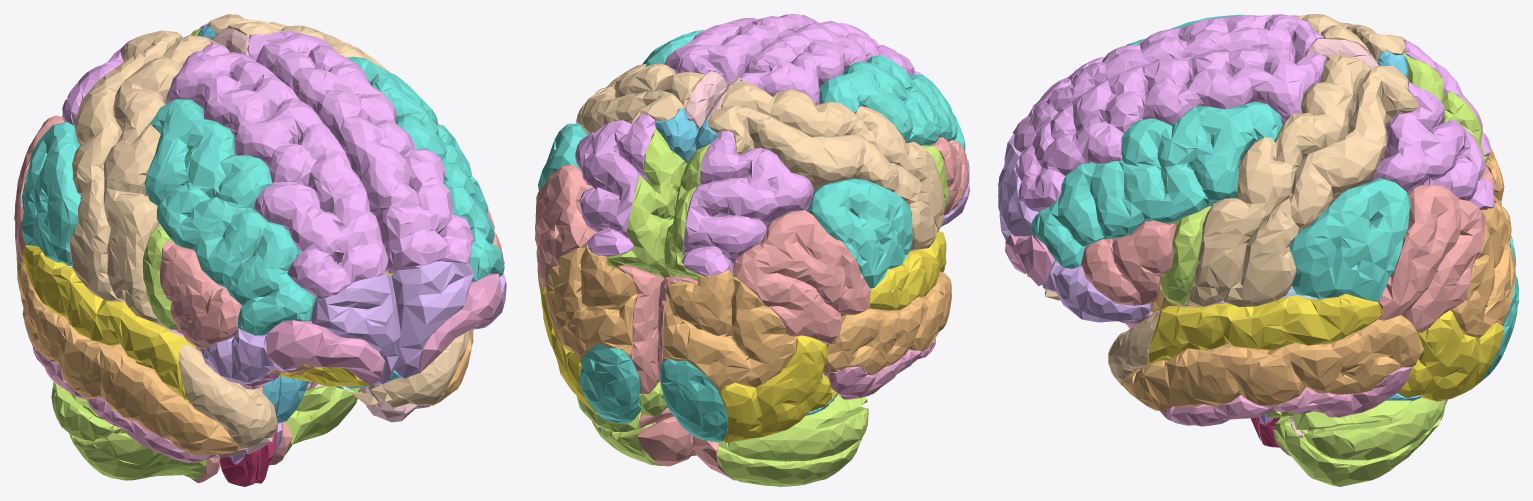
The model's file is organ-brain.glb.
The picture shows the model from 3 angles, left to right: view 1: azimuth 30°, elevation 25°; view 2: azimuth 150°, elevation 25°; view 3: azimuth 270°, elevation 25°; orthographic projection. The views are drawn at different scales.
Parts seen in each view (by area): view 1: superior-frontal-gyrus, middle-frontal-gyrus, precentral-gyrus, middle-temporal-gyrus, rostral-gyrus, postcentral-gyrus, lateral-hemisphere-of-cerebellum, superior-temporal-gyrus, temporal-pole, paracingulate-gyrus, supramarginal-gyrus, inferior-frontal-gyrus-triangular-part (+12 smaller); view 2: superior-occipital-gyrus, supraparietal-lobule, angular-gyrus, postcentral-gyrus, superior-frontal-gyrus, lateral-hemisphere-of-cerebellum, precentral-gyrus, supramarginal-gyrus, inferior-occipital-gyrus, middle-frontal-gyrus, precuneus, occipital-pole (+10 smaller); view 3: superior-frontal-gyrus, middle-frontal-gyrus, middle-temporal-gyrus, precentral-gyrus, postcentral-gyrus, supramarginal-gyrus, angular-gyrus, superior-temporal-gyrus, lateral-hemisphere-of-cerebellum, supraparietal-lobule, inferior-frontal-gyrus-triangular-part, inferior-occipital-gyrus (+10 smaller).
Part boxes in pixels (x1,y1,x2,y2): superior-frontal-gyrus: (166,30,473,305); middle-frontal-gyrus: (144,56,504,335); precentral-gyrus: (103,22,439,325); middle-temporal-gyrus: (17,261,473,455); rostral-gyrus: (311,261,474,384); postcentral-gyrus: (69,14,390,301); lateral-hemisphere-of-cerebellum: (51,381,360,480); superior-temporal-gyrus: (22,245,195,404); temporal-pole: (178,330,470,449); paracingulate-gyrus: (266,273,502,385); supramarginal-gyrus: (21,122,81,266); inferior-frontal-gyrus-triangular-part: (159,209,504,350); superior-occipital-gyrus: (545,245,796,394); supraparietal-lobule: (575,114,813,276); angular-gyrus: (535,164,870,343); postcentral-gyrus: (576,86,937,251); superior-frontal-gyrus: (664,14,923,104); lateral-hemisphere-of-cerebellum: (576,394,868,486); precentral-gyrus: (607,63,944,232); supramarginal-gyrus: (538,123,912,288); inferior-occipital-gyrus: (540,287,836,442); middle-frontal-gyrus: (642,30,965,151); precuneus: (606,125,710,280); occipital-pole: (579,343,727,441); superior-frontal-gyrus: (1013,14,1326,211); middle-frontal-gyrus: (1031,14,1282,268); middle-temporal-gyrus: (1121,315,1423,411); precentral-gyrus: (1187,14,1372,307); postcentral-gyrus: (1223,22,1418,306); supramarginal-gyrus: (1289,178,1410,301); angular-gyrus: (1377,185,1485,332); superior-temporal-gyrus: (1147,293,1383,364); lateral-hemisphere-of-cerebellum: (1266,396,1445,486); supraparietal-lobule: (1366,40,1494,209); inferior-frontal-gyrus-triangular-part: (1080,220,1175,305); inferior-occipital-gyrus: (1397,310,1503,401).
Size of the model in its own units: 0.1372 by 0.1461 by 0.167.
